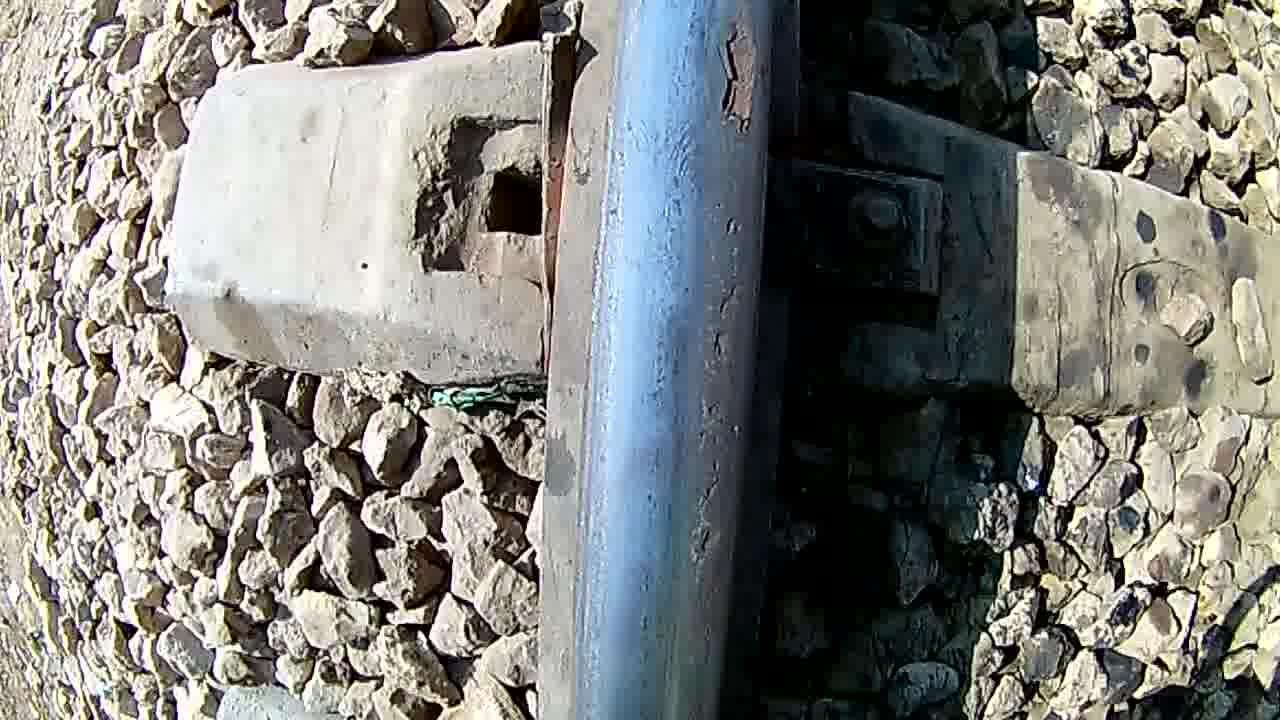crack: (595, 0, 790, 720)
